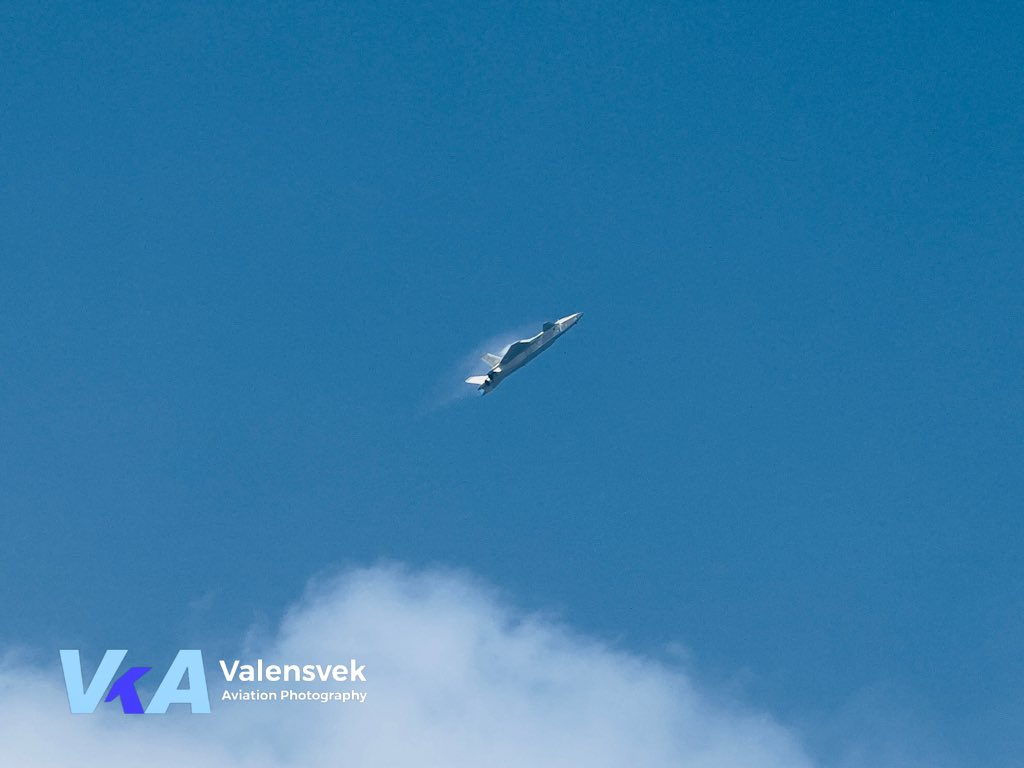J20: (463, 310, 585, 398)
